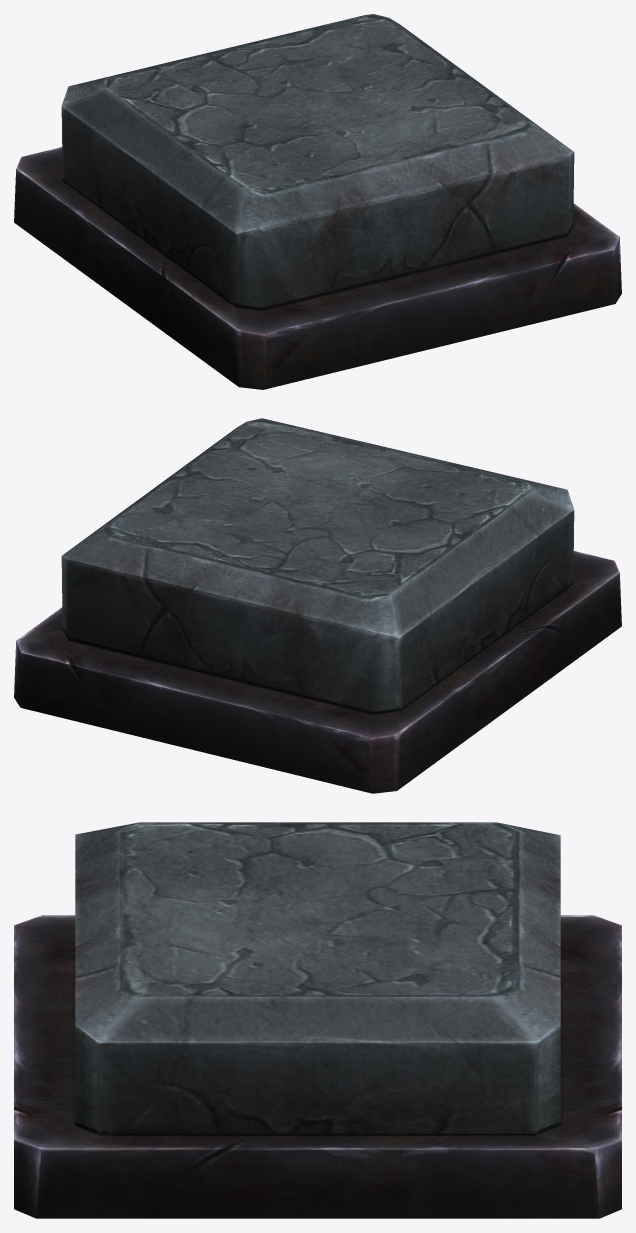
Rendered from B_shikuai017.fbx.
3 renders of one model, top to bottom at view 1: azimuth 30°, elevation 25°; view 2: azimuth 150°, elevation 25°; view 3: azimuth 270°, elevation 25°, orthographic. The views are drawn at different scales.
Parts seen in each view (by area): view 1: B_shikuai017; view 2: B_shikuai017; view 3: B_shikuai017.
Boxes of the visible parts, <box> form: B_shikuai017: <box>14,14,621,389</box>; B_shikuai017: <box>14,418,621,793</box>; B_shikuai017: <box>14,822,621,1218</box>.
Size of the model in its own units: 260 by 99.42 by 285.
